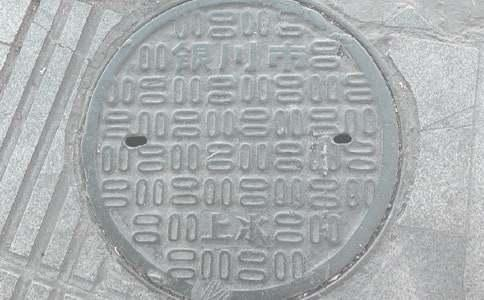wellcover: (72, 0, 411, 300)
